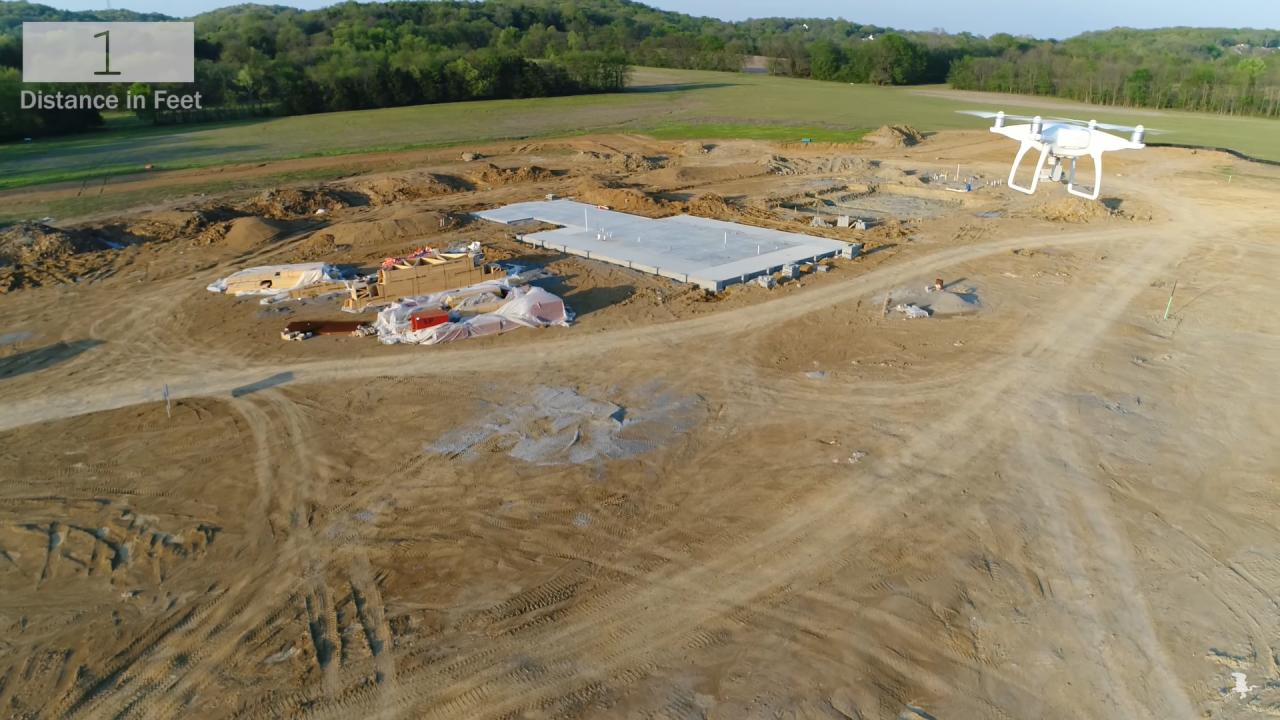Drone: (941, 96, 1184, 208)
